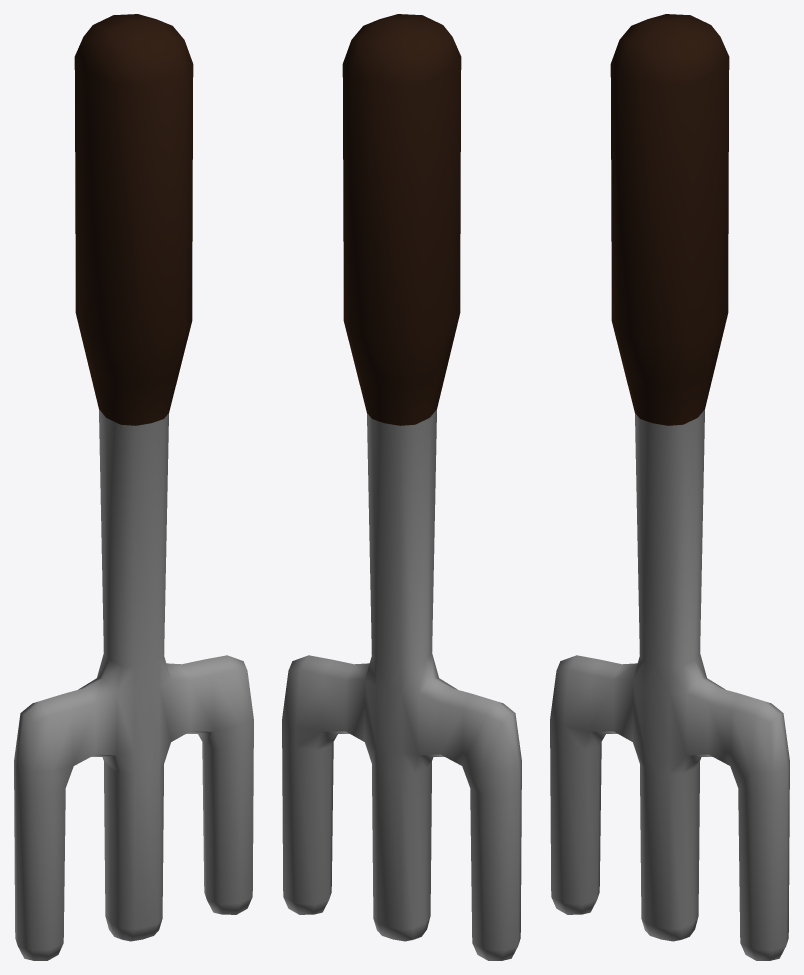
File: harrow2.fbx
The picture shows the model from 3 angles, left to right: view 1: azimuth 30°, elevation 25°; view 2: azimuth 150°, elevation 25°; view 3: azimuth 330°, elevation 25°; orthographic projection.
Visible parts, largest first — view 1: harrow2; view 2: harrow2; view 3: harrow2.
Boxes of the visible parts, bbox=[...] form: harrow2: bbox=[14, 14, 253, 960]; harrow2: bbox=[282, 14, 521, 960]; harrow2: bbox=[550, 14, 789, 960].
Size of the model in its own units: 0.0892 by 0.3329 by 0.0422.
